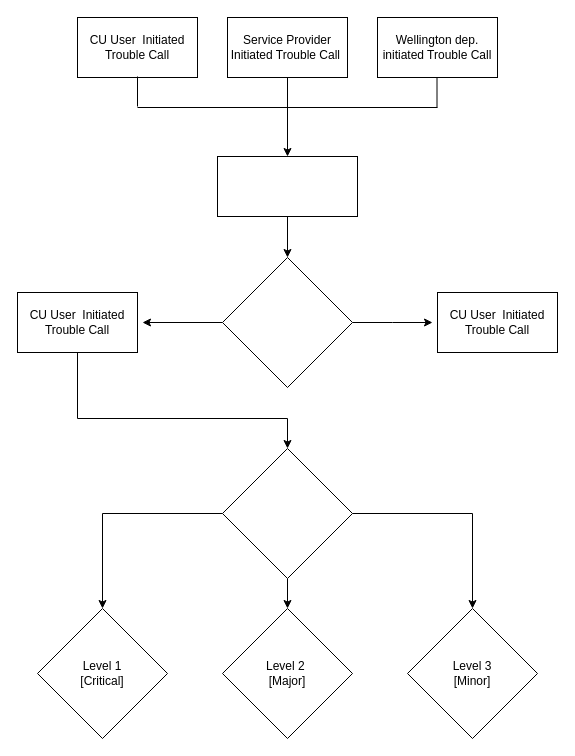
Some shapes in this 575 by 756 pixel diagram are drawn without their labels. Each missing label, with the centre of its shape:
Is Trouble Ticket Security Related?: pixel 287 322
Security Trouble Ticket Level: pixel 287 513
Wellington IT CU Support or Network Team: pixel 287 186
